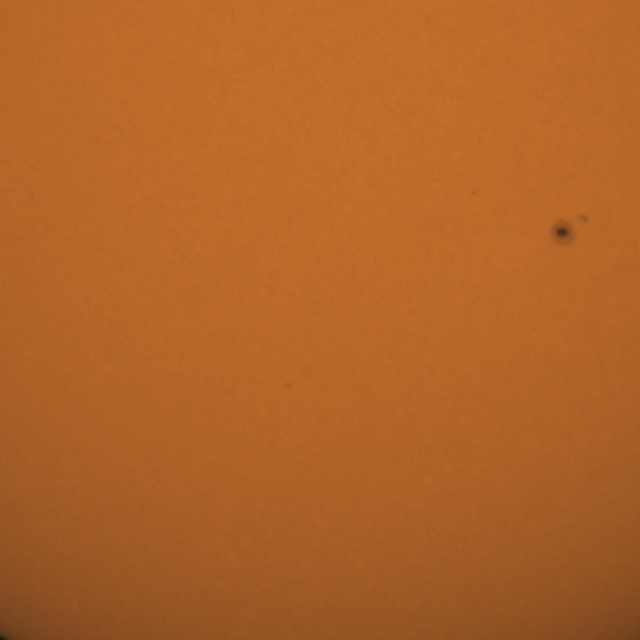sunspot: (551, 213, 590, 246), (282, 380, 293, 392), (471, 189, 477, 197)
